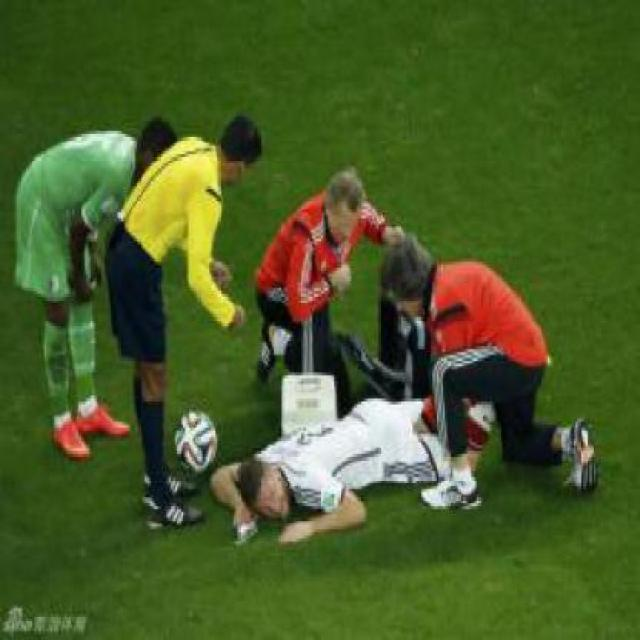fall: (191, 343, 435, 555)
